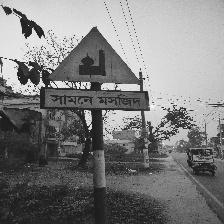Mosque in front: (43, 27, 147, 112)
